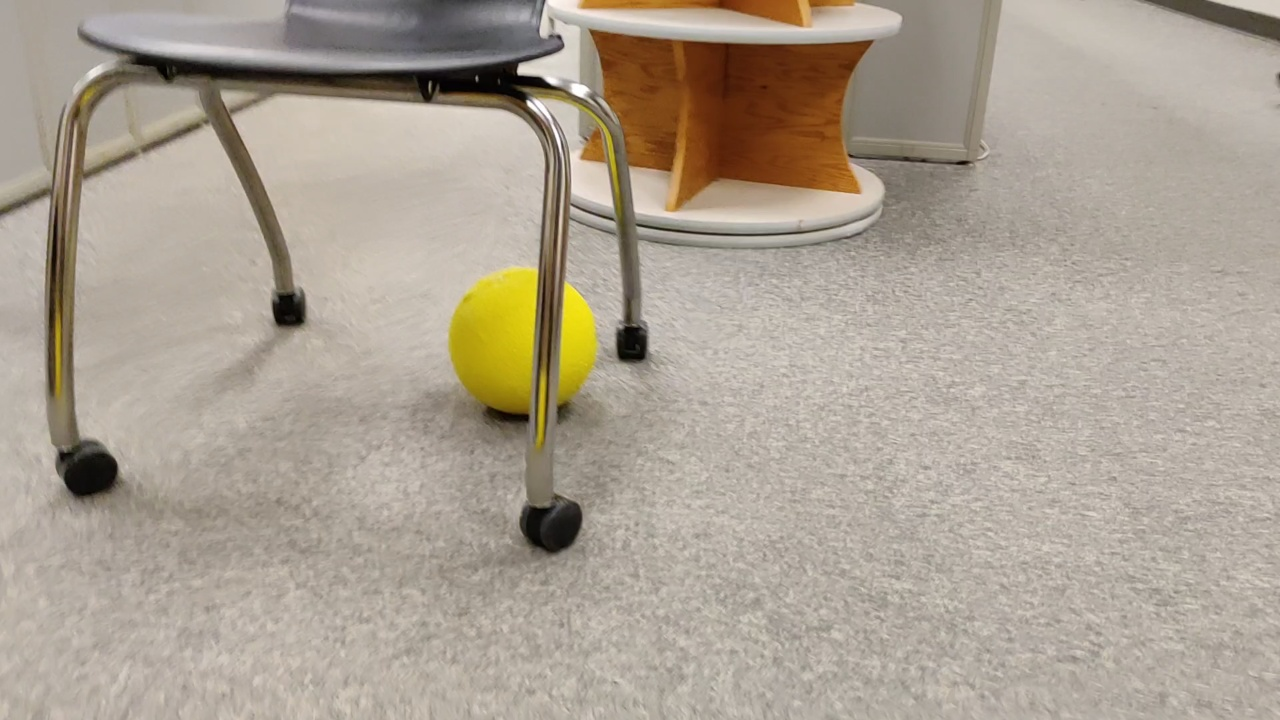Ball: (449, 267, 598, 412)
